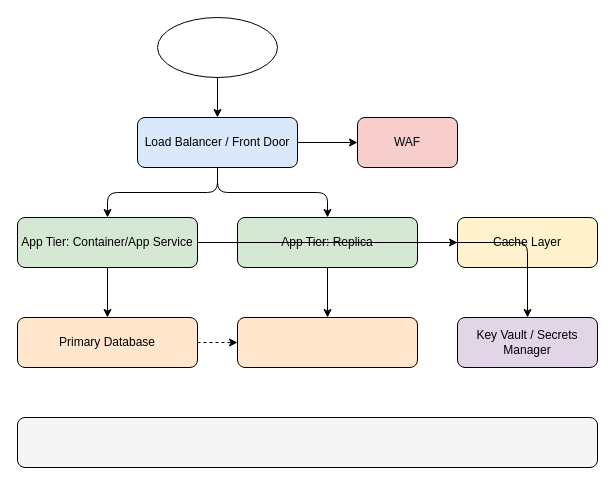
Image size: 615x485. Some labels were removed from this diagram. Each missing label, with the box of its shape:
Observability: Metrics / Logs / Traces: (16, 416, 598, 468)
Read Replica: (236, 316, 418, 368)
Users: (156, 16, 278, 78)
